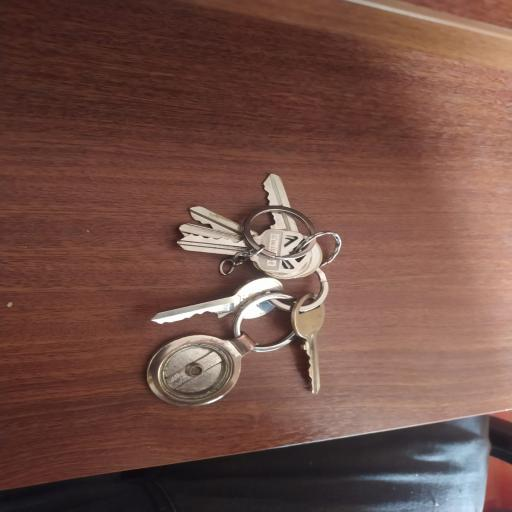Llaves: (135, 167, 347, 412)
